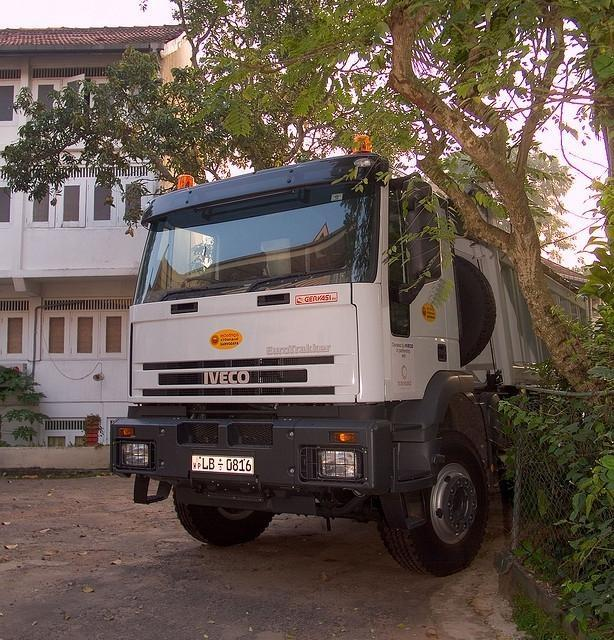truck: (107, 129, 601, 577)
